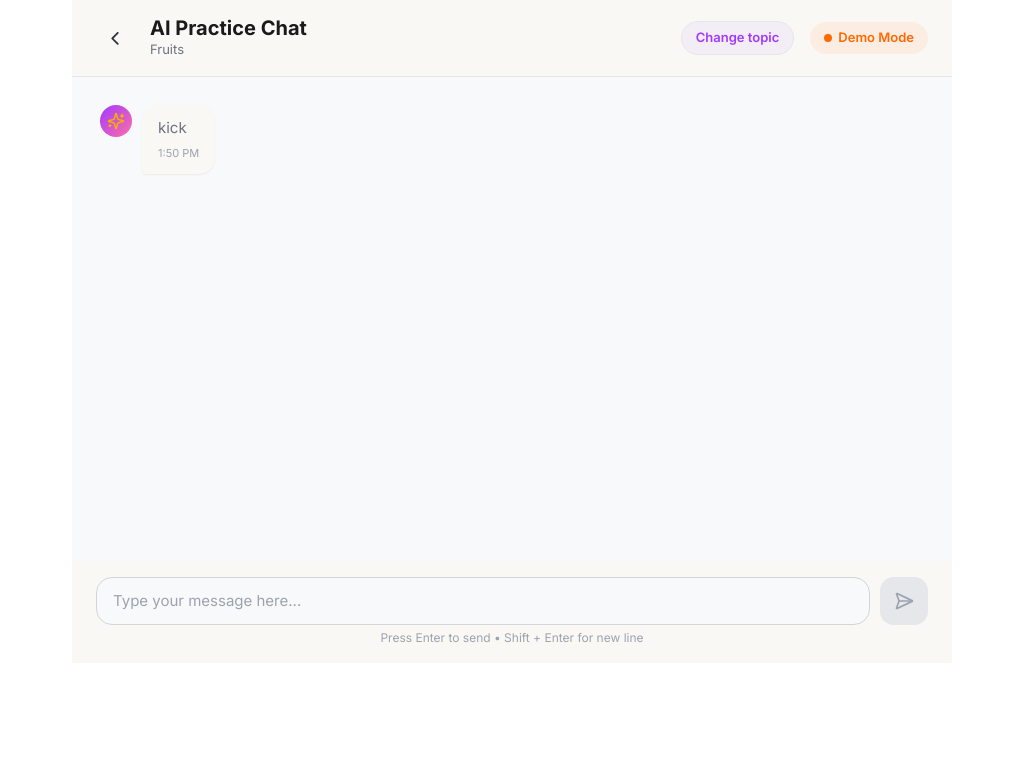
AiChatPage › sends a typed message and streams the reply into the bubble
Expected: the text "kick" is shown, [158,118,187,136]
Type "test" into the text box labelled "message". click: (483, 601)
box: [96,576,870,625]
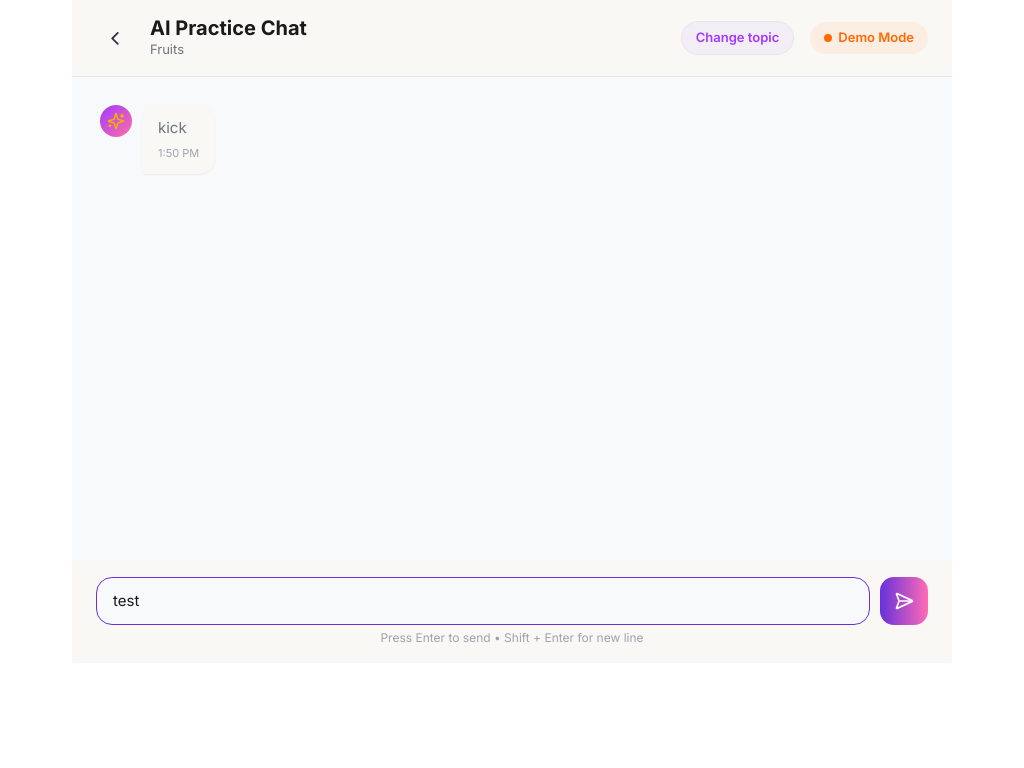
Click the button named "Send message". click: click(904, 601)
box: [880,577,928,625]
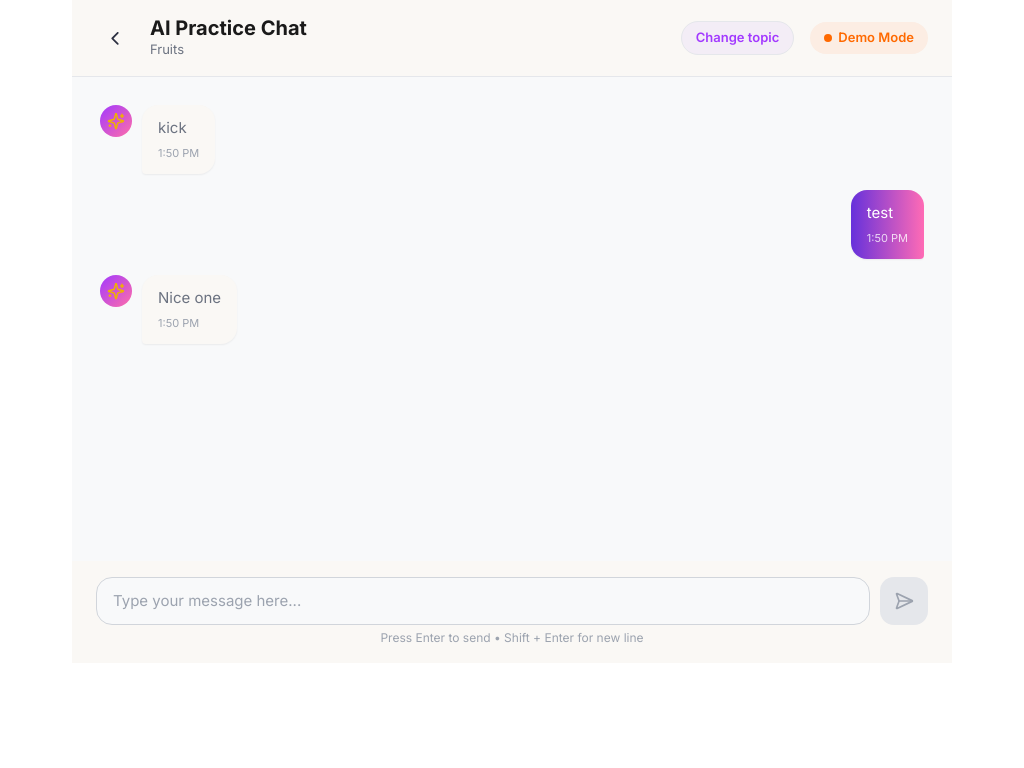
Now the text "Nice one" is shown, box [158,286,221,309]
Now the text "test" is shown, box [867,202,893,222]
